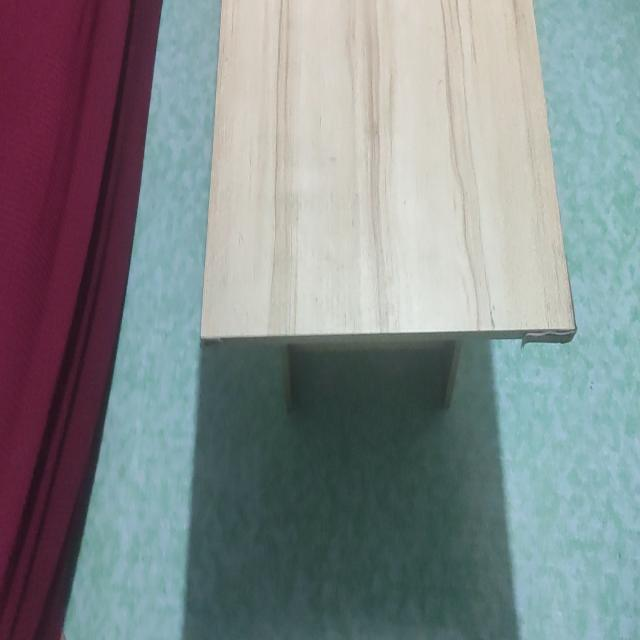table: (183, 0, 572, 387)
